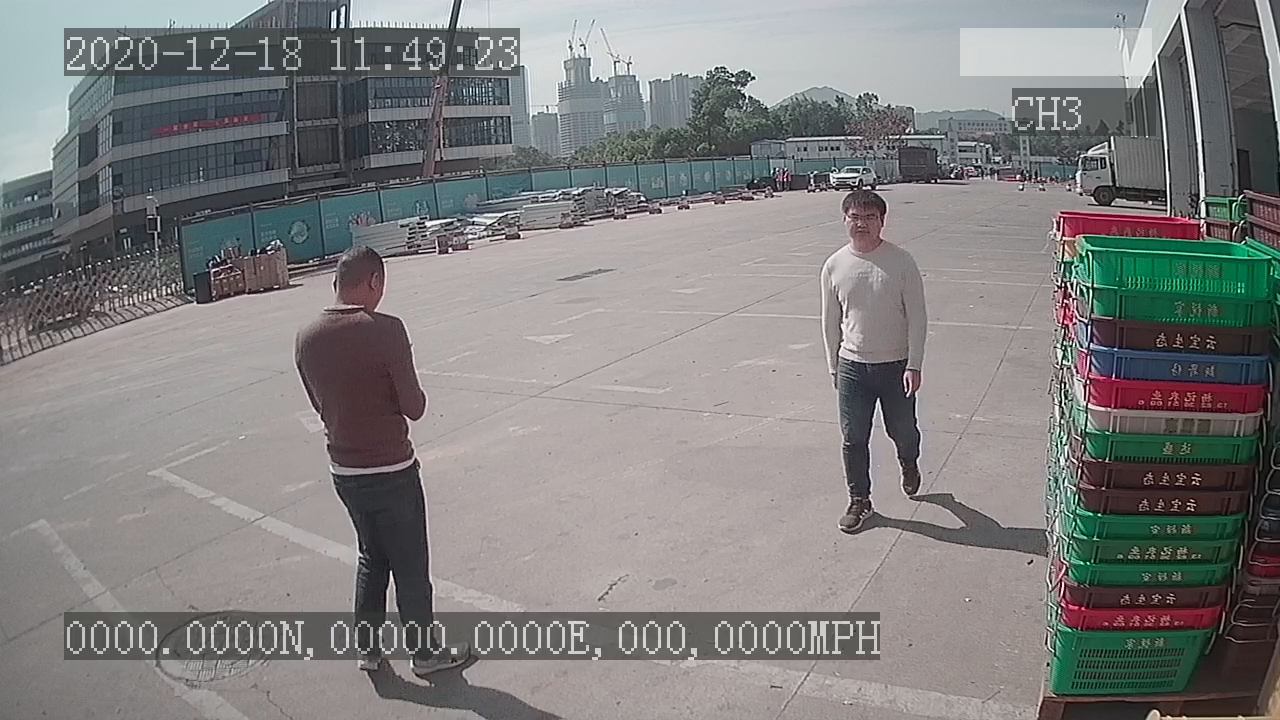person: (818, 186, 929, 535)
